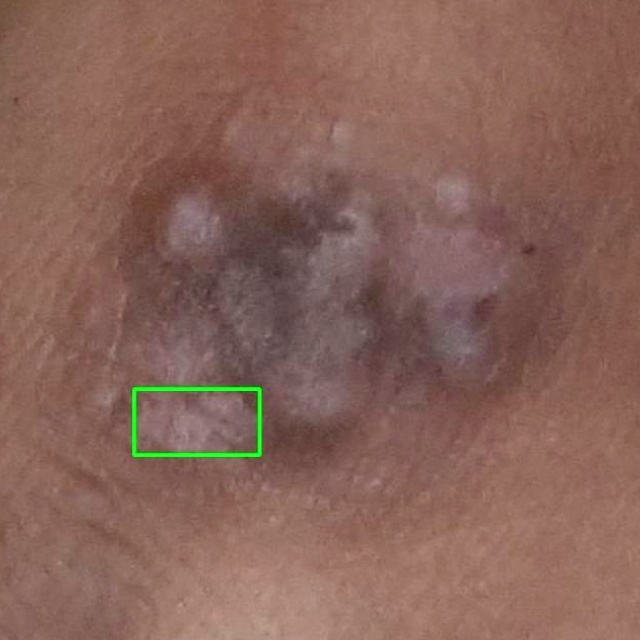Contact Dermatitis: (134, 388, 259, 454)
